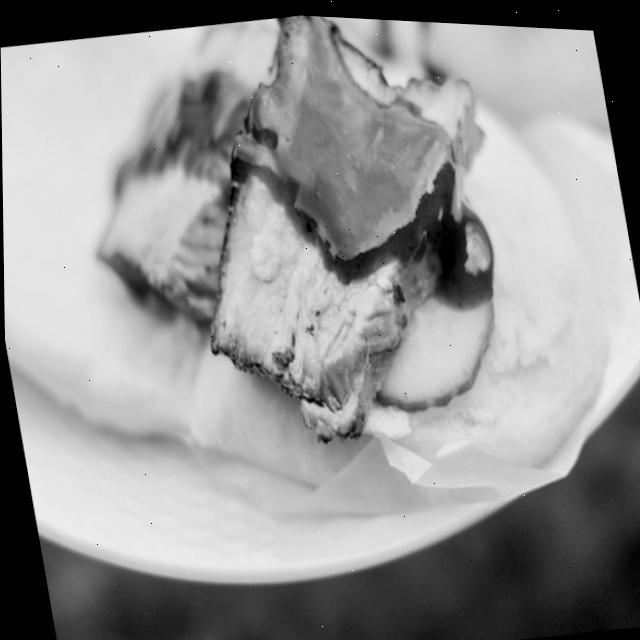牛肉菜式: (7, 0, 640, 638)
